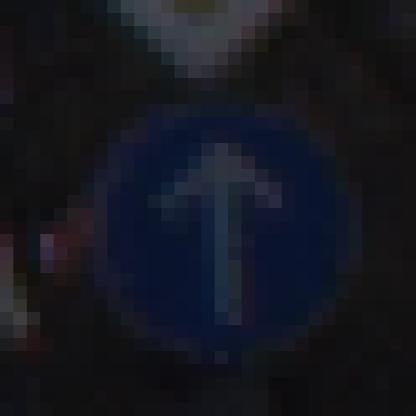AheadOnly: (81, 66, 350, 352)
